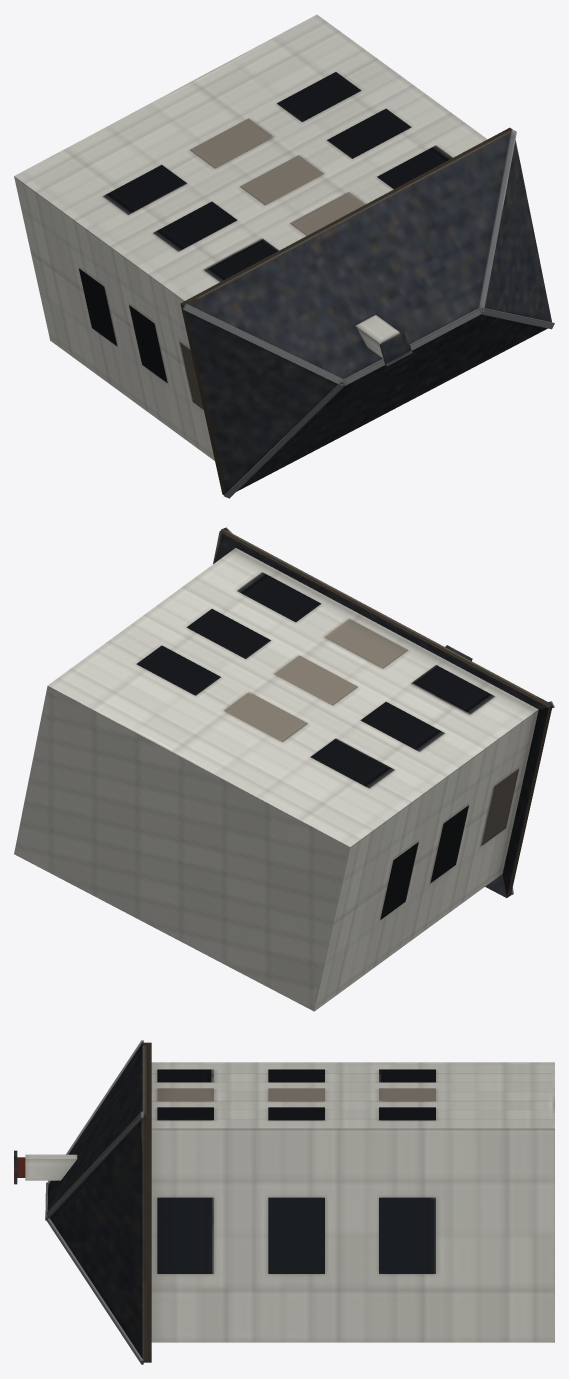
File: house_b0342.obj
3 views of the same model, one above another, from view 1: azimuth 30°, elevation 25°; view 2: azimuth 150°, elevation 25°; view 3: azimuth 270°, elevation 25° (orthographic). The views are drawn at different scales.
Parts seen in each view (by area): view 1: house_b0342; view 2: house_b0342; view 3: house_b0342.
Boxes of the visible parts, x1,y1,x2,y2 form: house_b0342: (14, 14, 554, 498); house_b0342: (14, 527, 554, 1011); house_b0342: (14, 1040, 554, 1364).
Size of the model in its own units: 12.84 by 9.89 by 14.63.
Materials: 1 (1 with a texture image).
